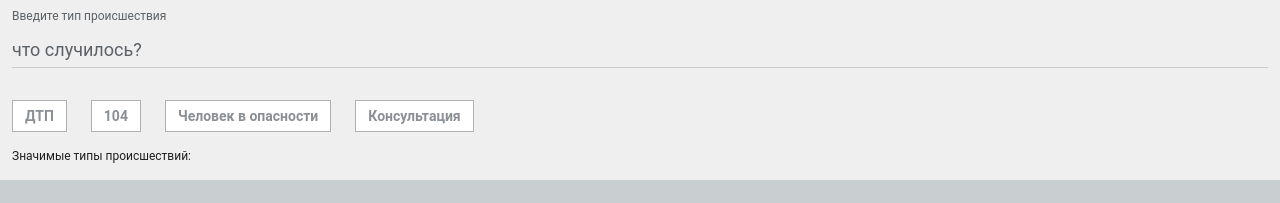
Scenario: TypeTabs: тип происшествия и вкладки › выбор типа: вкладка, поле «добавить тип происшествия», событие typeAdded; быстрые типы исчезают
Type "пожар" into the dropdown.
click(640, 50); type("пожар")  # box [12, 32, 1268, 68]
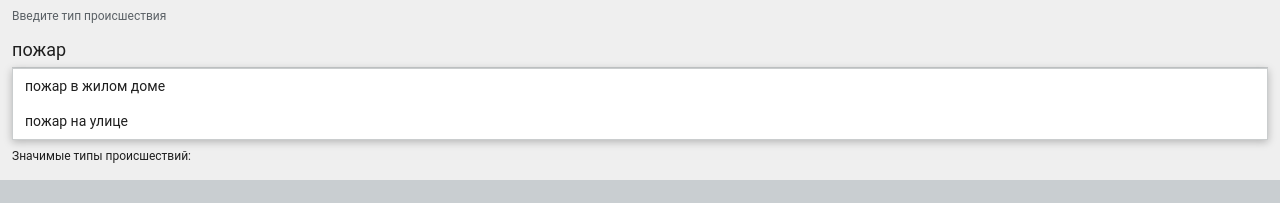
Press the mouse on the button "пожар в жилом доме" at point(95, 86), box [13, 69, 1267, 104]
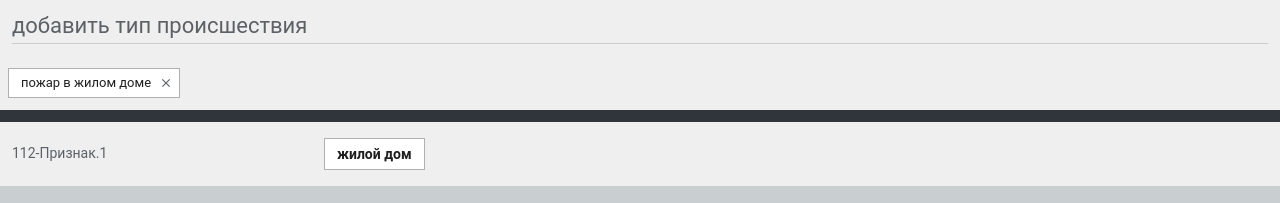
Now the dropdown labelled "добавить тип происшествия" is shown, box [12, 8, 1268, 44]
Now the text "Значимые типы происшествий:" is gone
